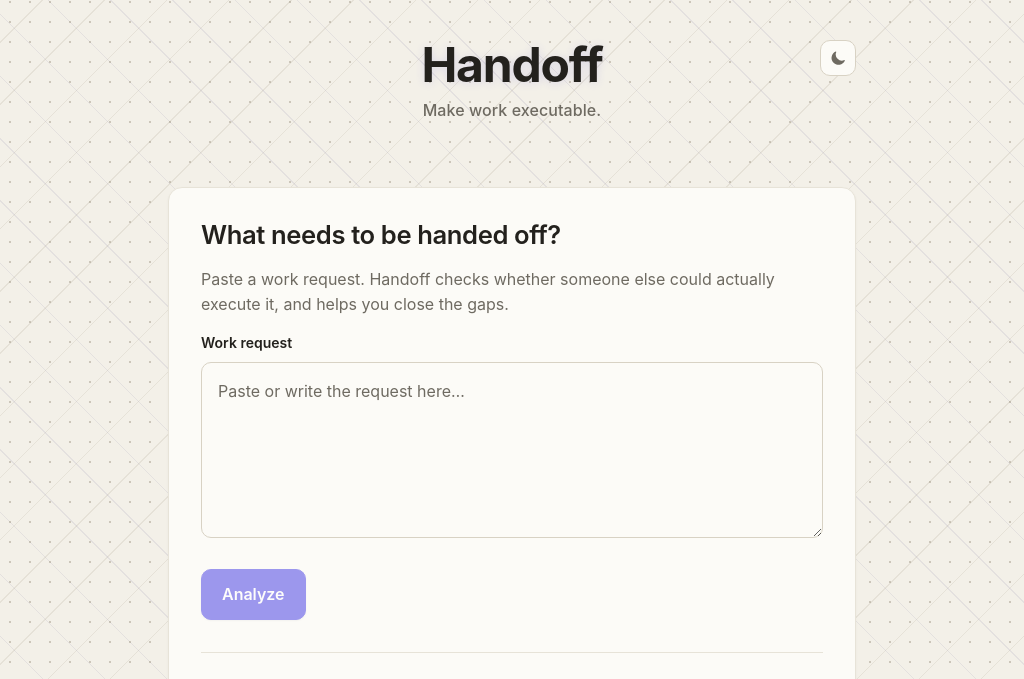
Test: App integration › analyzes and shows the results view with readiness, fields, and issues
Type "fix the login bug" into the text box labelled "Work request". click: (512, 450)
box: top-left (201, 362), bottom-right (823, 538)
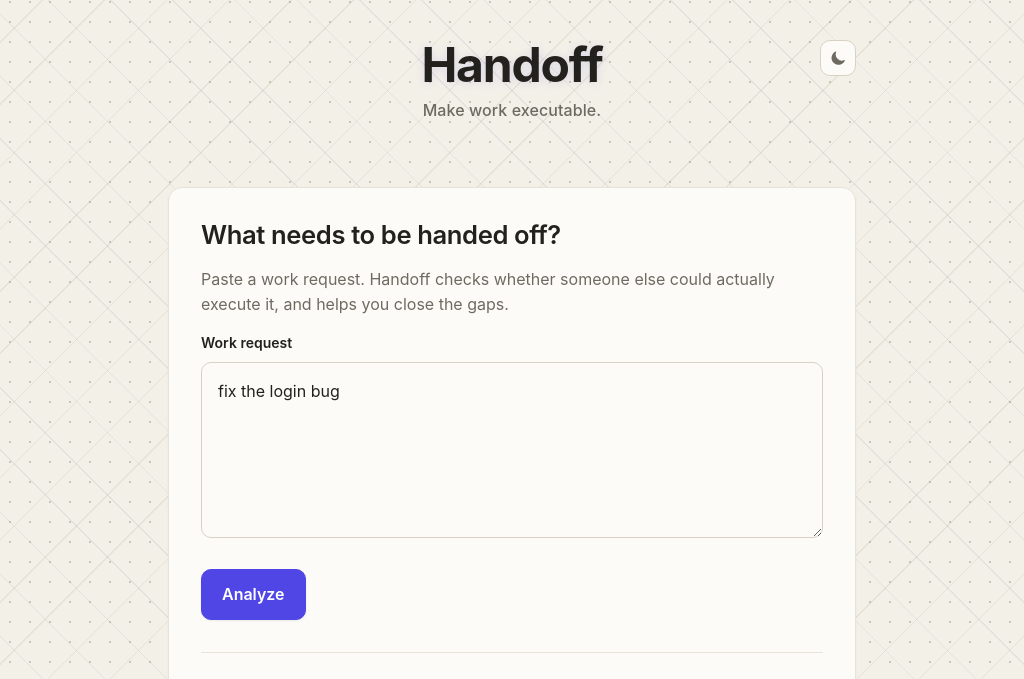
Click the button "Analyze". click: (253, 594)
box: top-left (201, 569), bottom-right (306, 620)
(page scrolled)
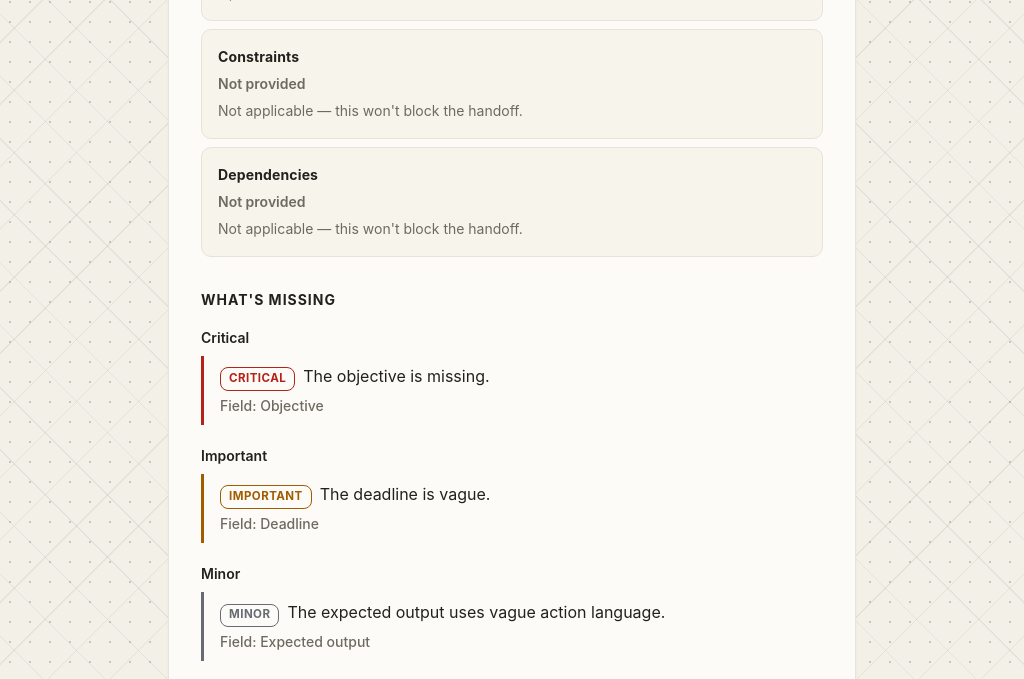
Expected: the text "The objective is missing." is shown, top-left (303, 366), bottom-right (490, 386)
